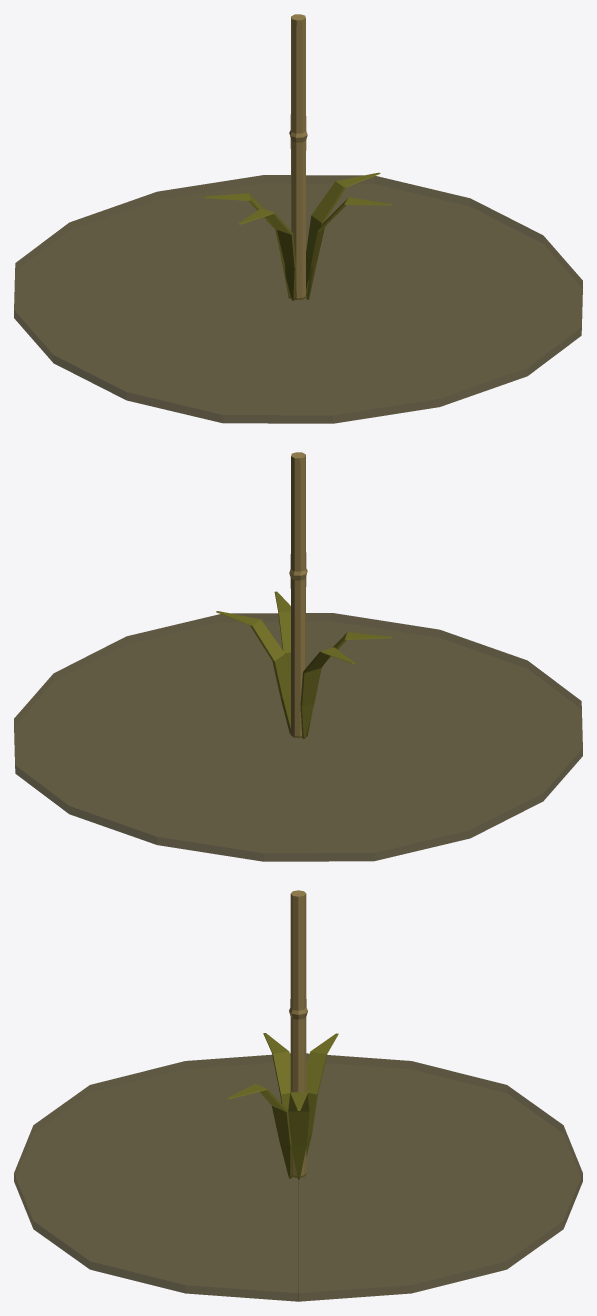
The model's file is GrowingRedRaw.fbx.
3 renders of one model, top to bottom at view 1: azimuth 30°, elevation 25°; view 2: azimuth 150°, elevation 25°; view 3: azimuth 270°, elevation 25°, orthographic.
Parts seen in each view (by area): view 1: PlantRedGrowing; view 2: PlantRedGrowing; view 3: PlantRedGrowing.
Part boxes in pixels (x1=…): PlantRedGrowing: x1=14, y1=14, x2=582, y2=423; PlantRedGrowing: x1=14, y1=452, x2=582, y2=861; PlantRedGrowing: x1=14, y1=890, x2=582, y2=1301.
Bounding box in the file's own units: 138 × 76.77 × 138.
